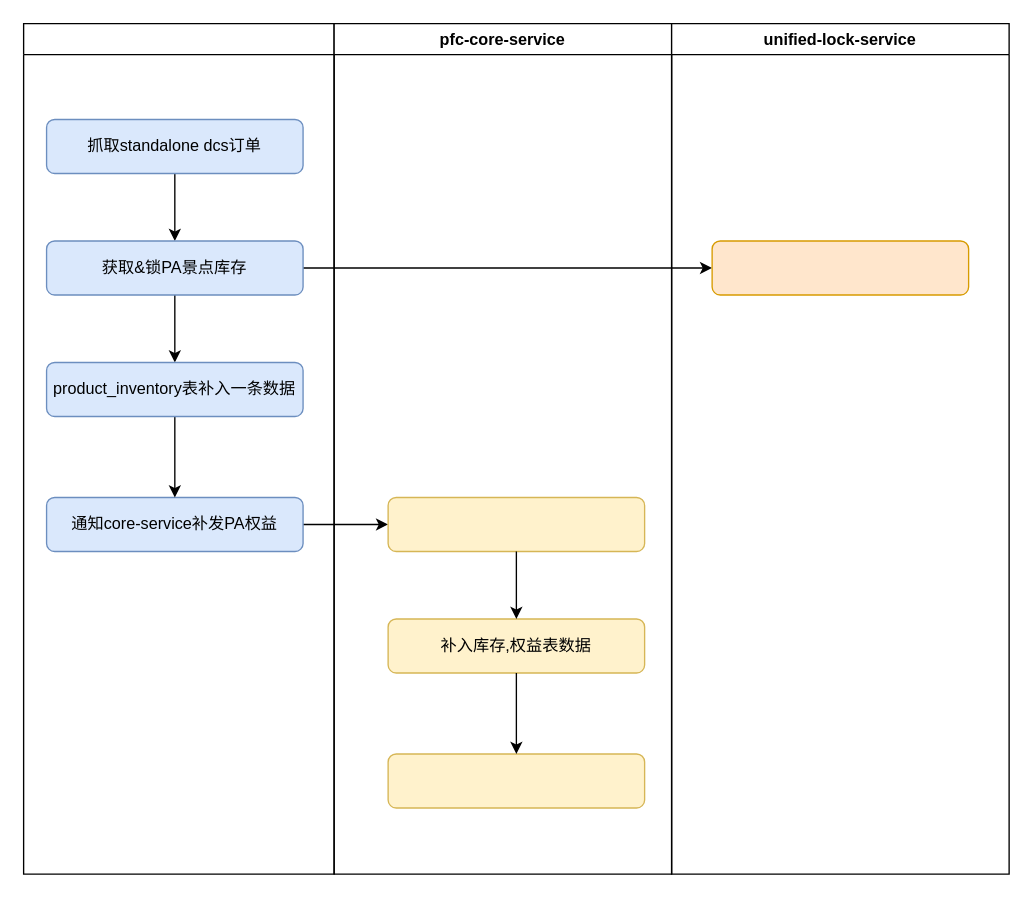
Image size: 1033x898. Some labels were removed from this diagram. Here are the shapes that lost their labels. From the top down, the centre of each, then its label:
(840,267): 库存
(178,448): pfc-order-service
(516,523): 接收order-service通知,补发权益
(516,780): pfc_order_operation_detail表 补入一条数据
